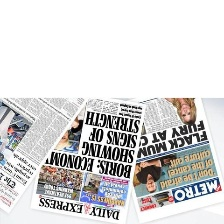news_paper: (28, 97, 149, 222), (130, 97, 224, 224), (0, 96, 95, 214)
